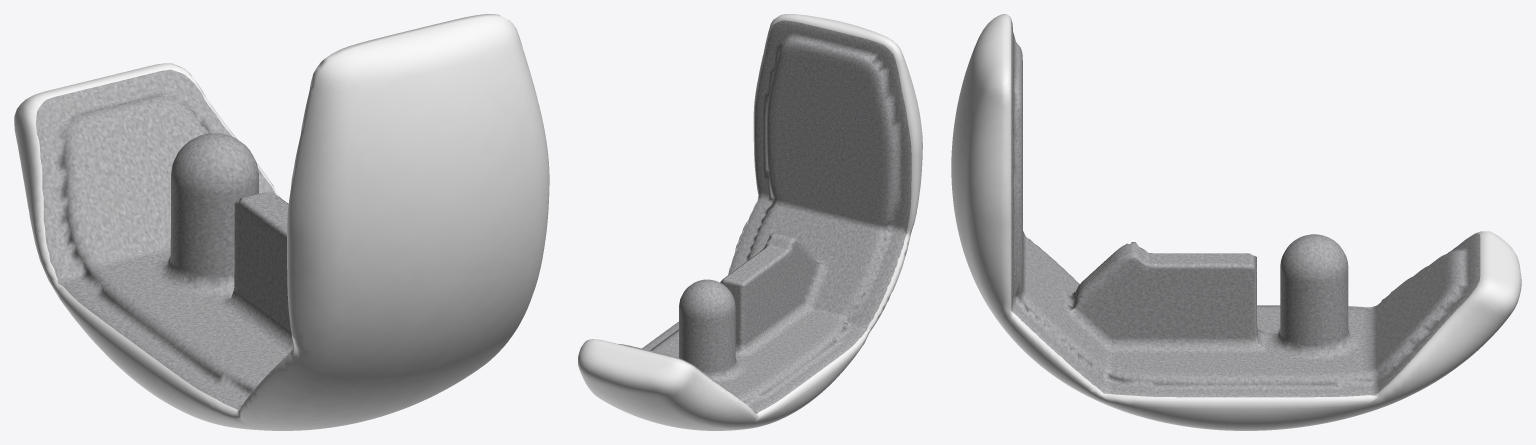
File: femoral_iu_lod0.glb
3 renders of one model, left to right at view 1: azimuth 30°, elevation 25°; view 2: azimuth 150°, elevation 25°; view 3: azimuth 270°, elevation 25°, orthographic. The views are drawn at different scales.
Parts seen in each view (by area): view 1: femoral_iu; view 2: femoral_iu; view 3: femoral_iu.
Boxes of the visible parts, left/top/right/bottom form: femoral_iu: left=14, top=14, right=549, bottom=430; femoral_iu: left=578, top=14, right=922, bottom=430; femoral_iu: left=951, top=14, right=1521, bottom=430.
Size of the model in its own units: 0.0199 by 0.0354 by 0.0499.
Materials: 2 (1 with a texture image).
